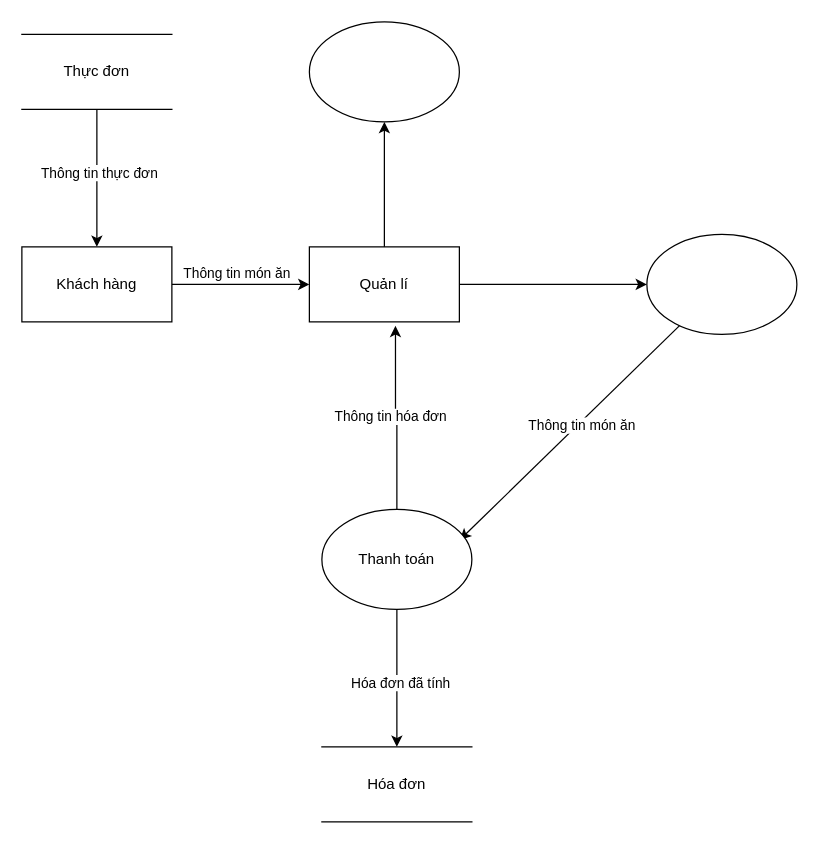
This 819x844 diagram has some shape labels left out. Each missing label, with the centre of its shape:
Chuyển bàn: the point at 383,71
Thêm món cho bàn: the point at 721,283
